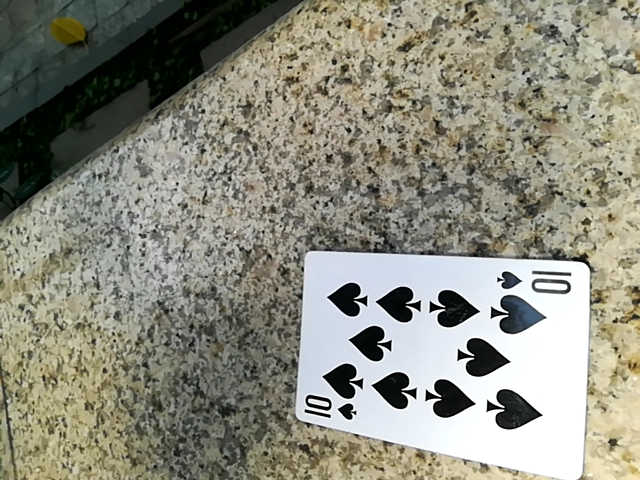ht 10: (300, 243, 598, 477)
